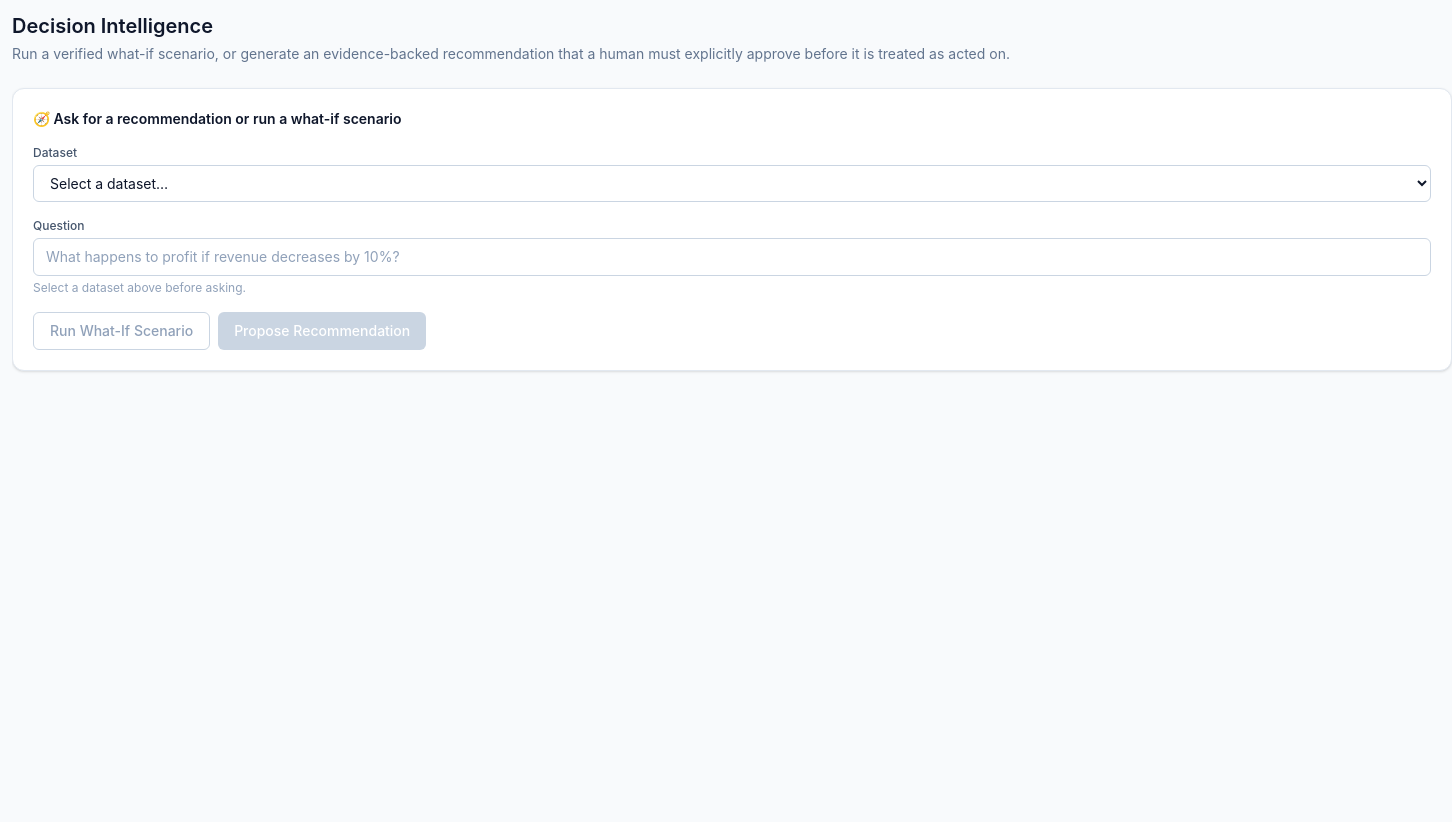
Scenario: DecisionsPage › approves a pending recommendation and reflects the new status
Select "decision_finance_sample (15 rows)" in the dropdown labelled "Dataset" at (732, 184), box [33,165,1431,202]
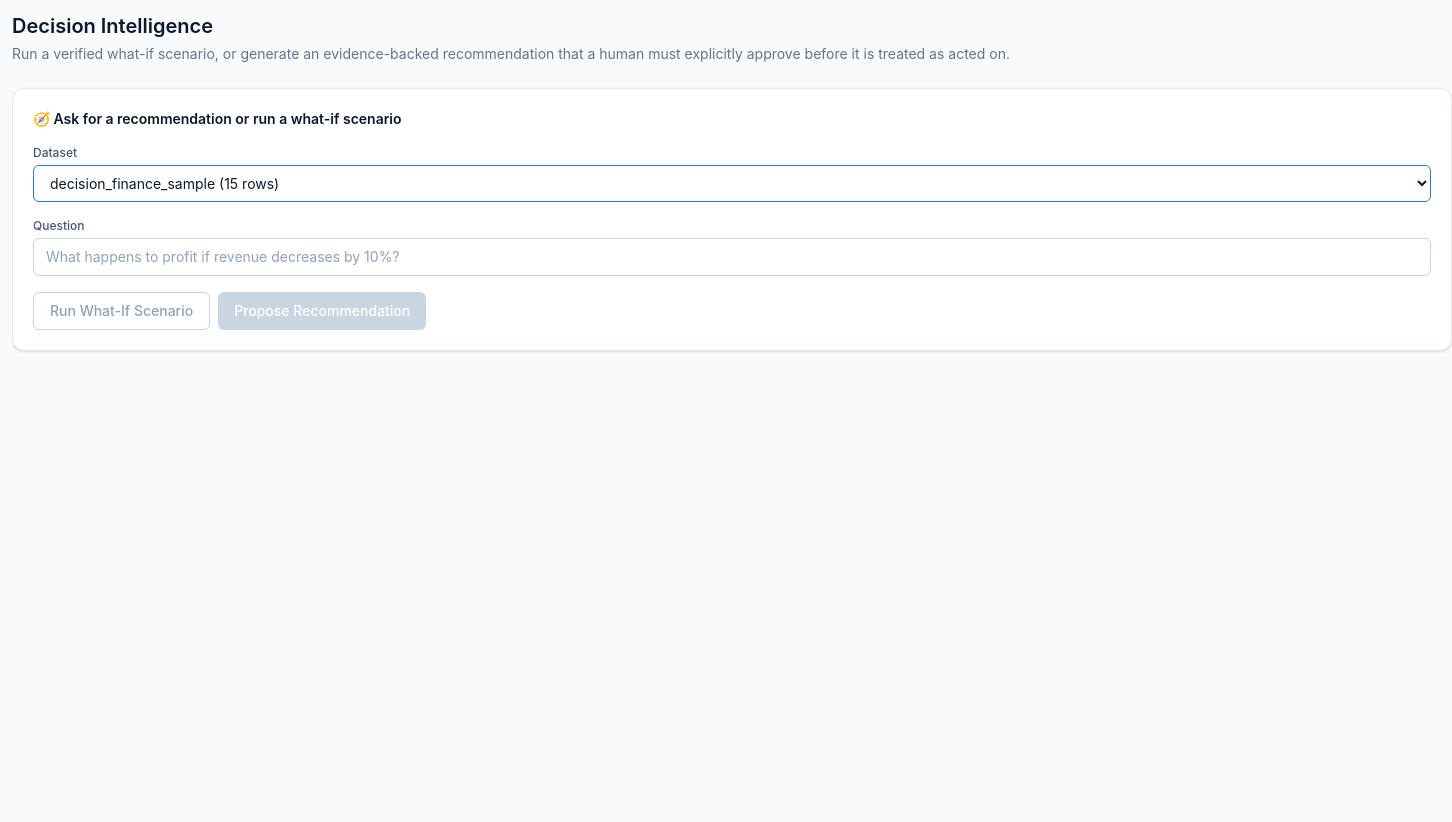
Type "recommend an action" into the field labelled "Question".
click(732, 257); type("recommend an action")  # box [33,238,1431,276]
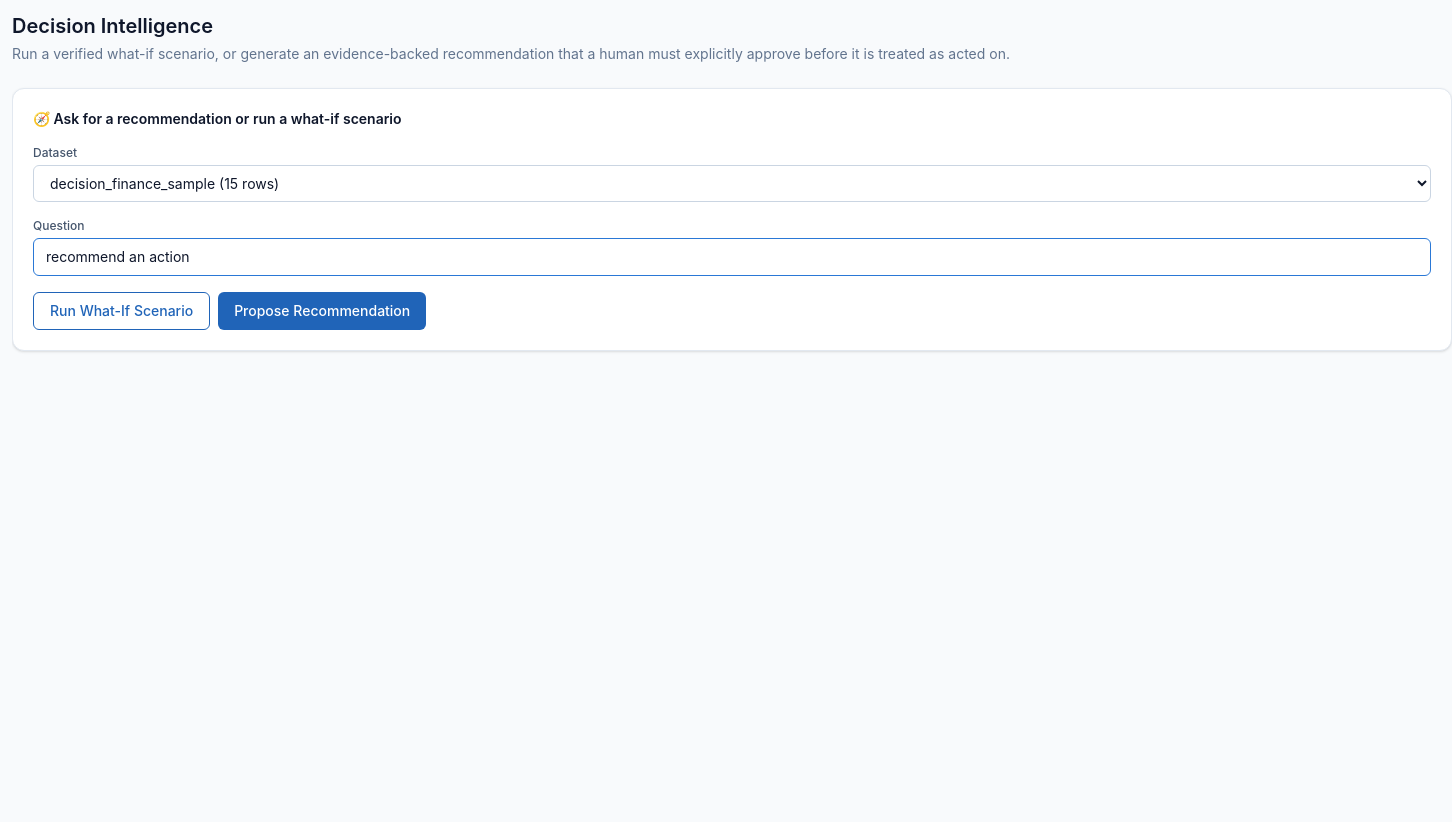
Click the button "Propose Recommendation".
click(322, 311)  # box [218,292,426,330]
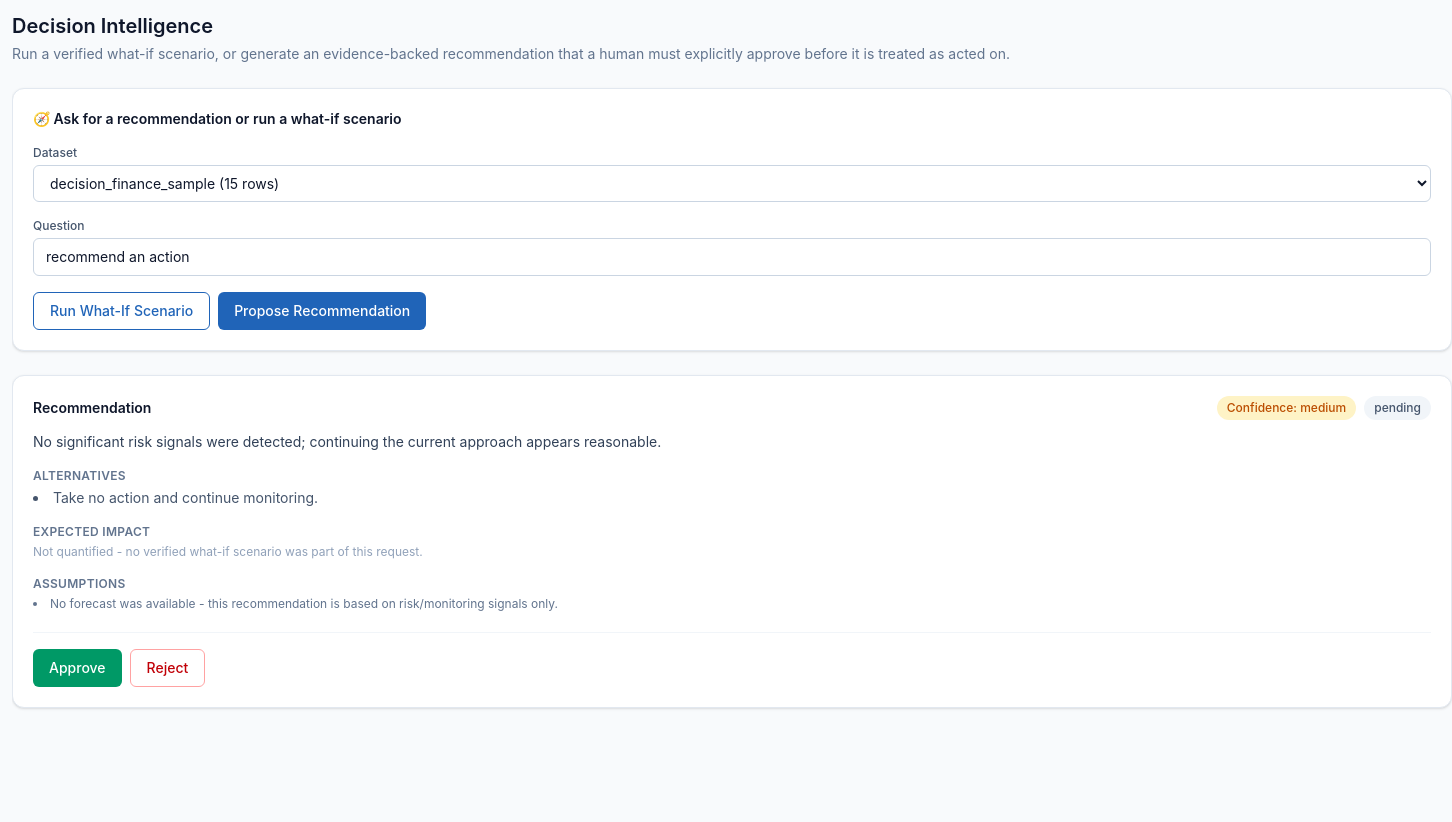
Check: the text "pending" is shown, box [1364,396,1431,420]
Click the button "Approve".
click(77, 668)  # box [33,649,122,687]
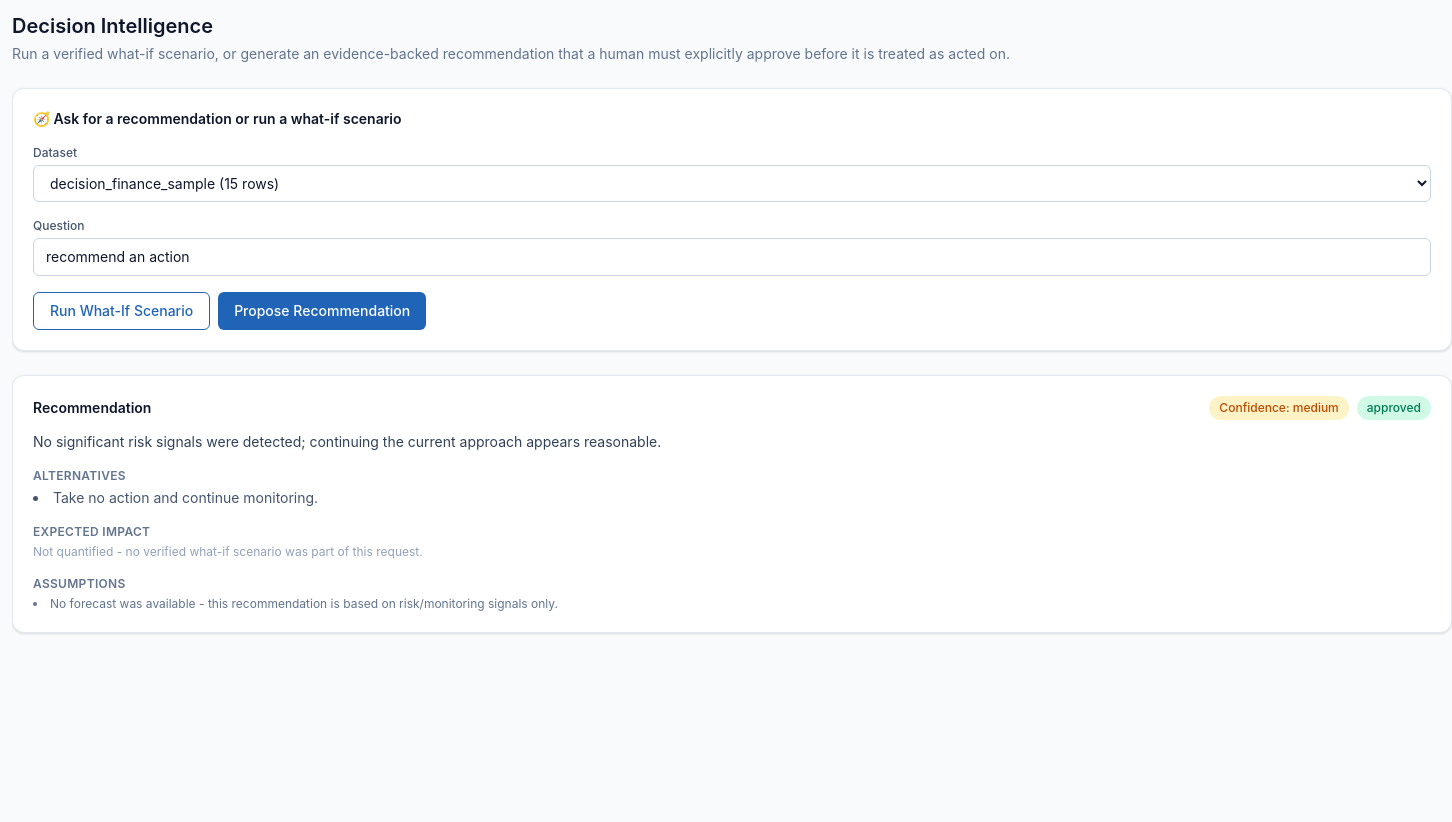
Check: the text "approved" is shown, box [1357,396,1431,420]
